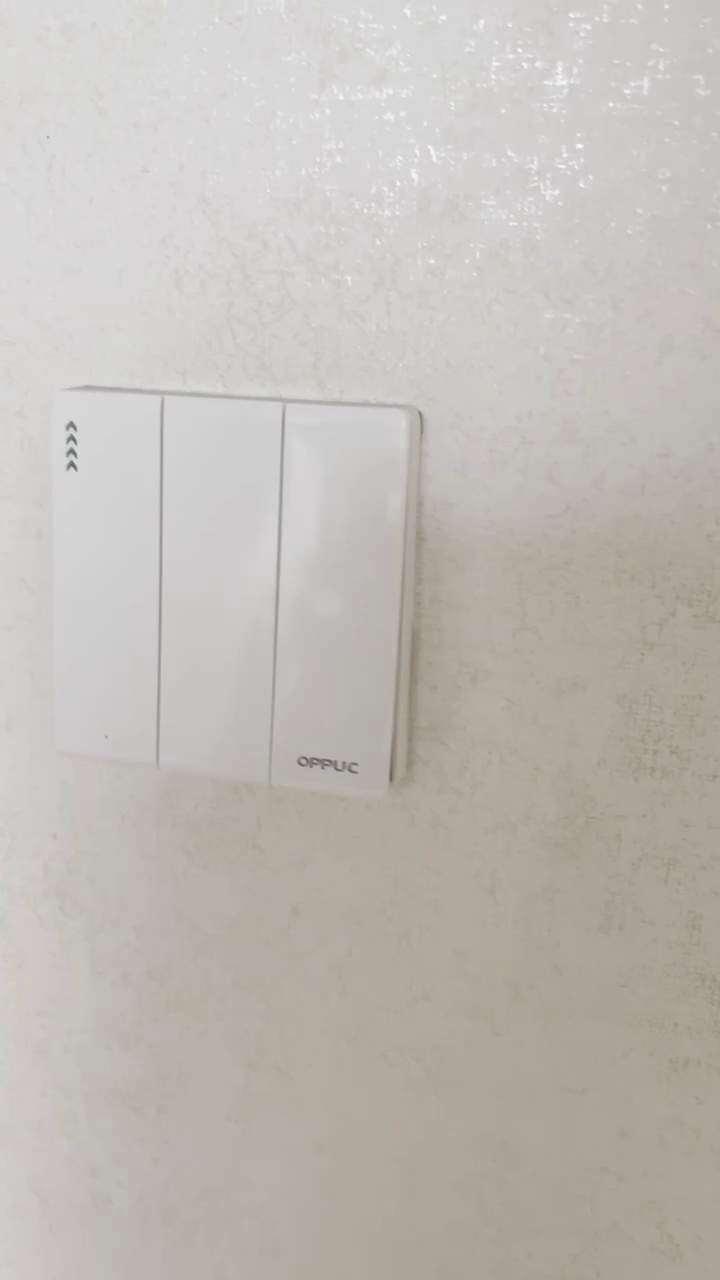button1: (279, 406, 404, 785), (163, 400, 276, 789), (54, 394, 156, 765)
